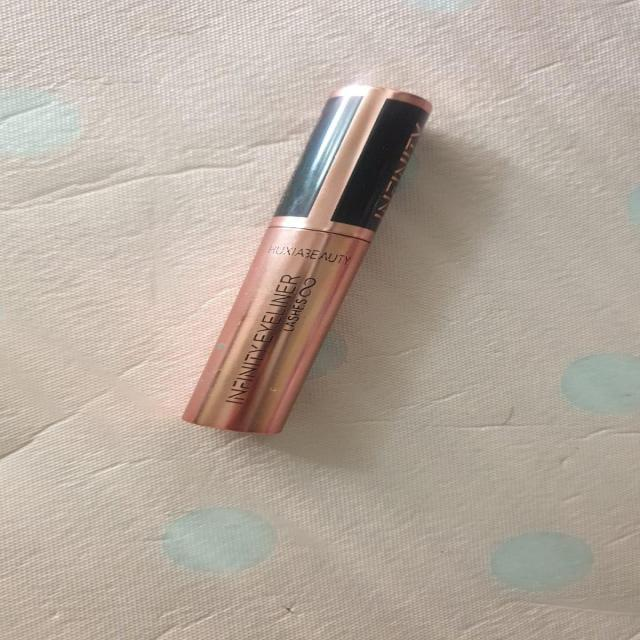concealer: (166, 66, 487, 457)
